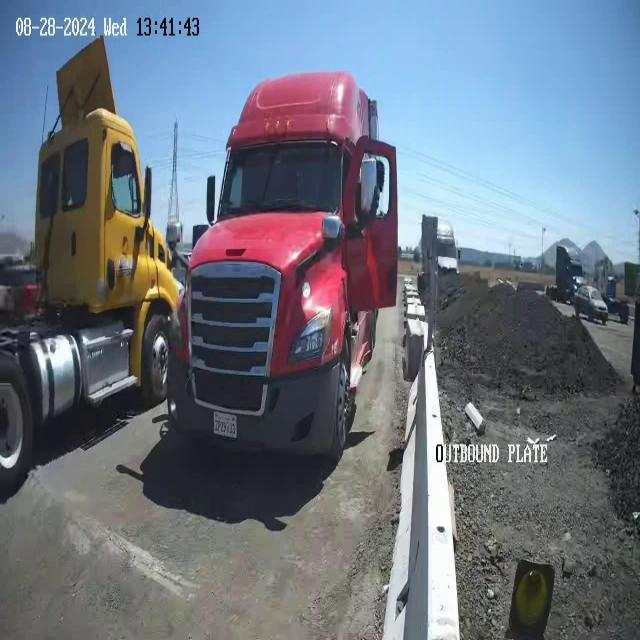TRUCK_IN: (0, 59, 172, 473)
TRUCK_OUT: (167, 77, 385, 471)
